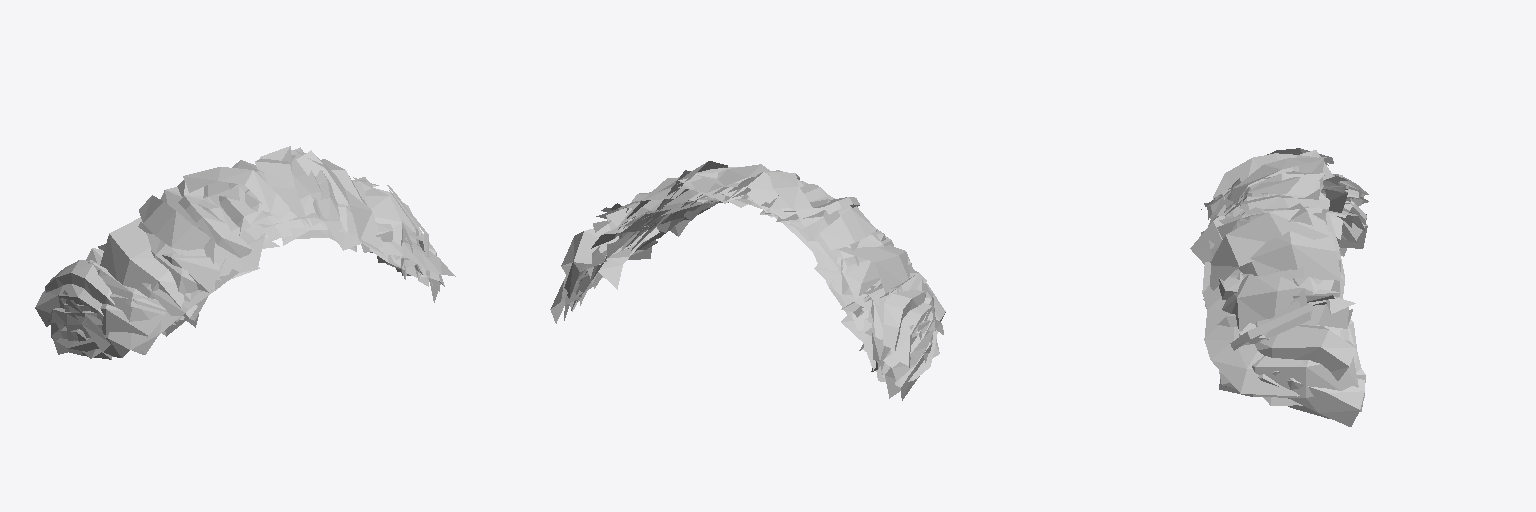
File: mustache1.obj
3 views of the same model, side by side, from view 1: azimuth 30°, elevation 25°; view 2: azimuth 150°, elevation 25°; view 3: azimuth 270°, elevation 25° (orthographic).
Parts seen in each view (by area): view 1: BigBeard20:0; view 2: BigBeard20:0; view 3: BigBeard20:0.
Boxes of the visible parts, x1=… form: BigBeard20:0: x1=35, y1=146, x2=455, y2=359; BigBeard20:0: x1=550, y1=161, x2=945, y2=400; BigBeard20:0: x1=1190, y1=148, x2=1368, y2=426.
Bounding box in the file's own units: 6.19 × 2.8 × 2.66.